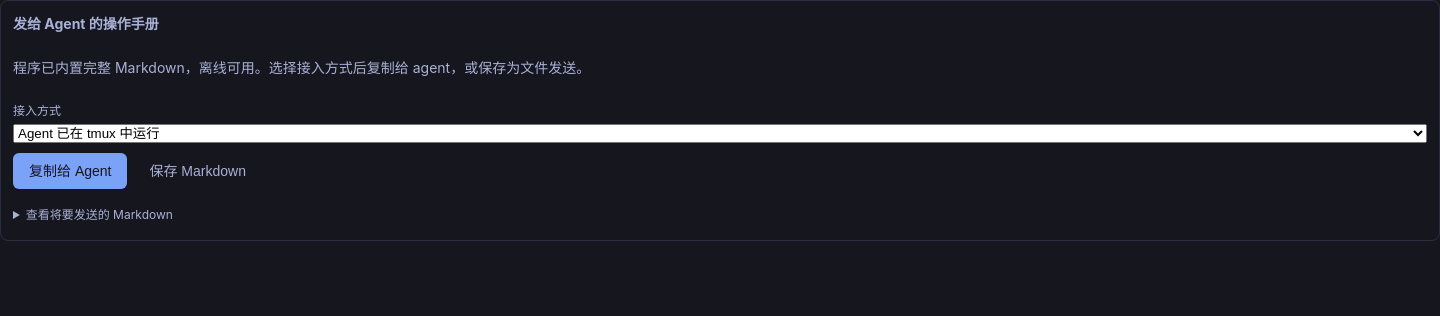
it: saves the same complete Markdown via a local save dialog and reports cancellation
Click the button "保存 Markdown": [198, 171] box [134, 153, 262, 189]
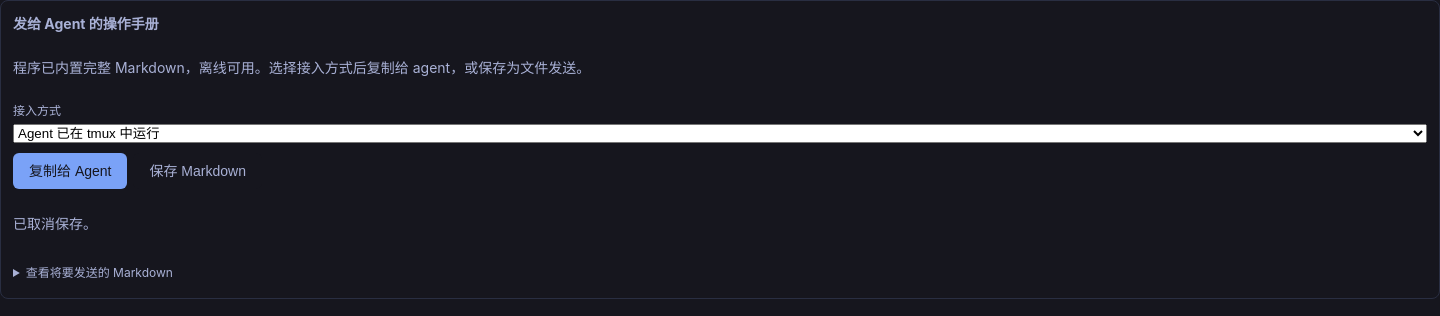
Check: the text "已取消保存。" is shown, box [13, 215, 97, 232]
Click the button "保存 Markdown": [198, 171] box [134, 153, 262, 189]
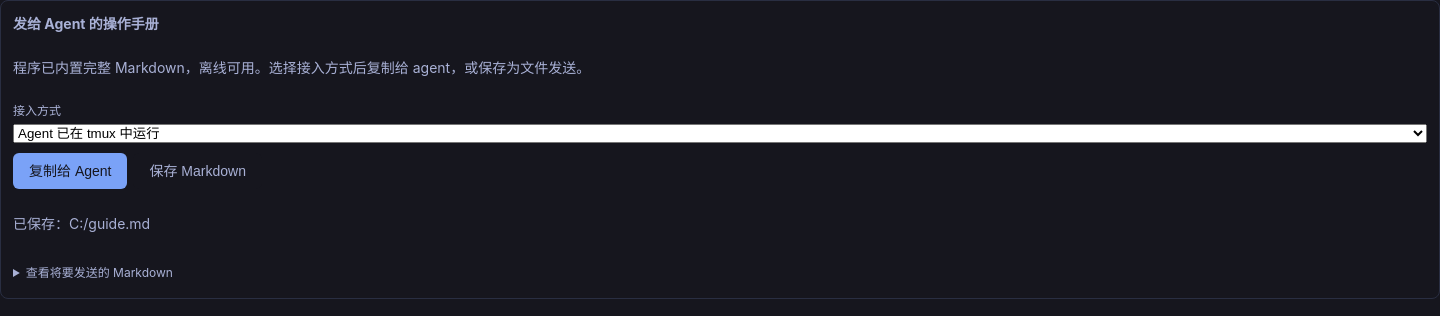
Check: the text "已保存：C:/guide.md" is shown, box [13, 215, 150, 232]
